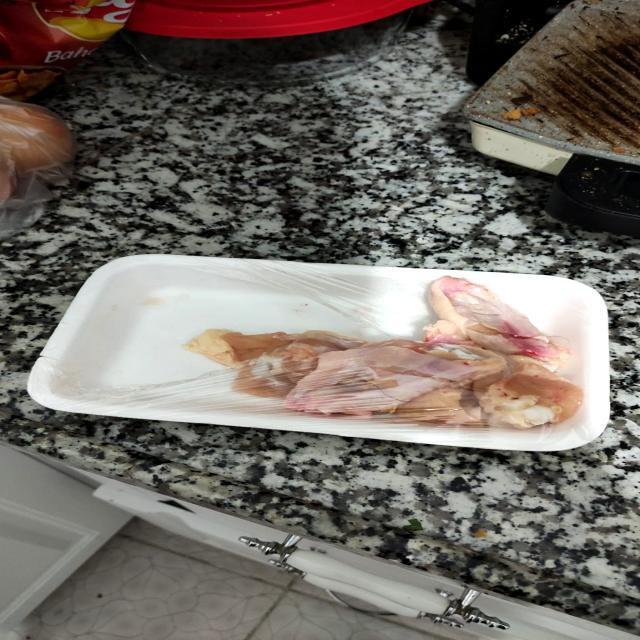chicken: (107, 256, 611, 451)
